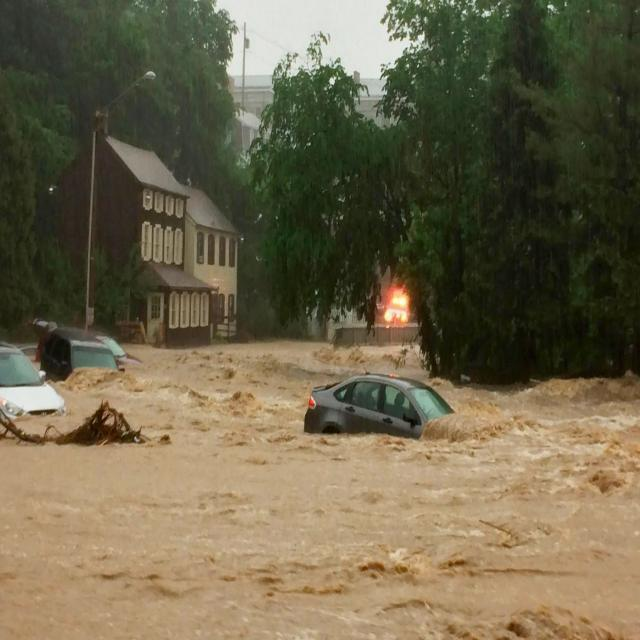water: (0, 342, 638, 637)
